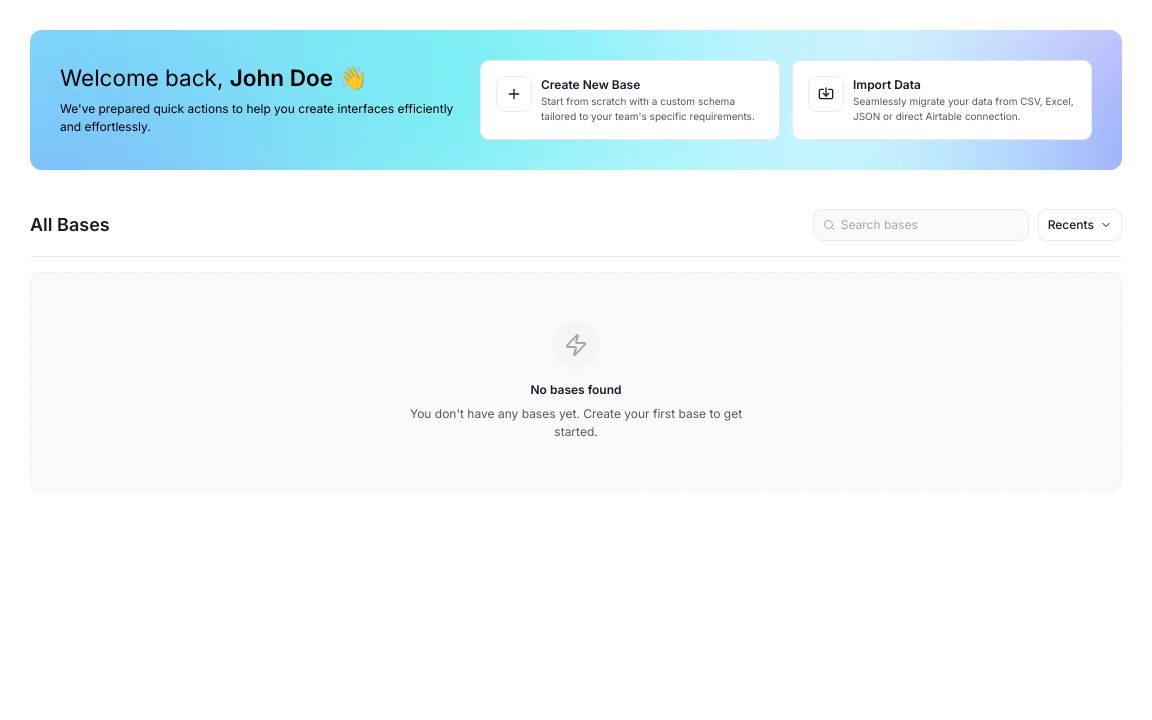
HomePage › Sorting › closes sort dropdown on outside click
The width and height of the screenshot is (1152, 720).
Click the button "Recents": click(1080, 225) left=1038, top=209, right=1122, bottom=241
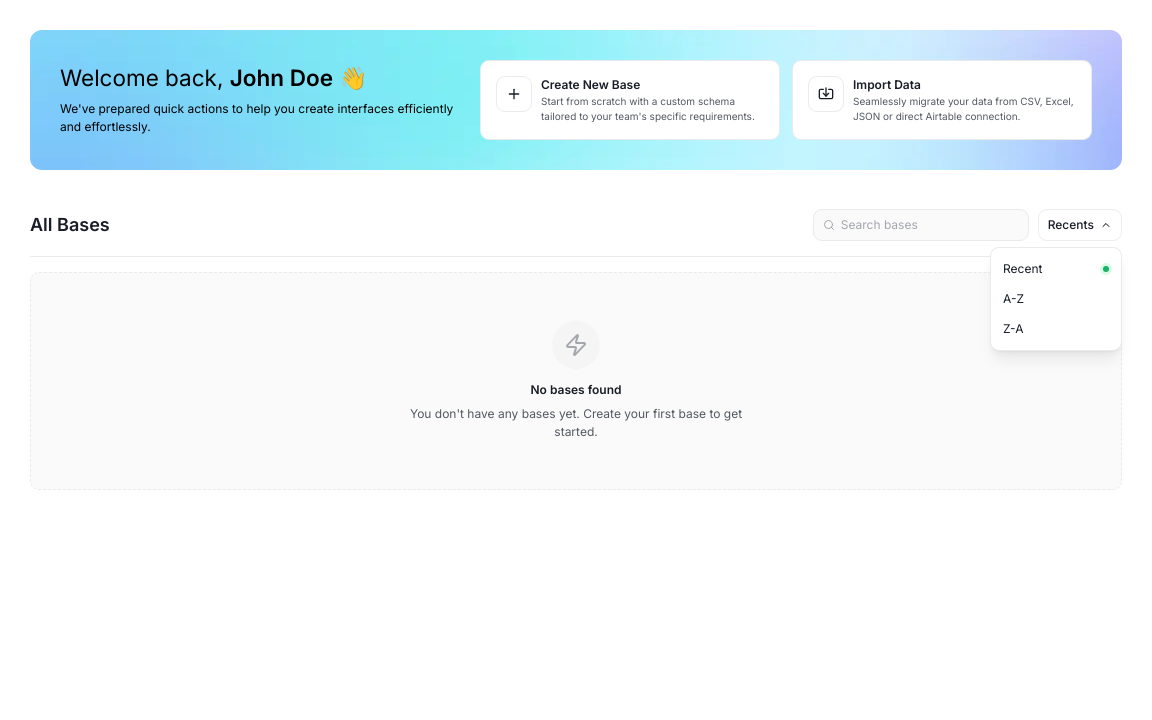
expect the text "A-Z" is shown: met, box left=1003, top=290, right=1024, bottom=308
Press the mouse on the element that starts with "Welcome back,": (576, 260) left=0, top=0, right=1151, bottom=520
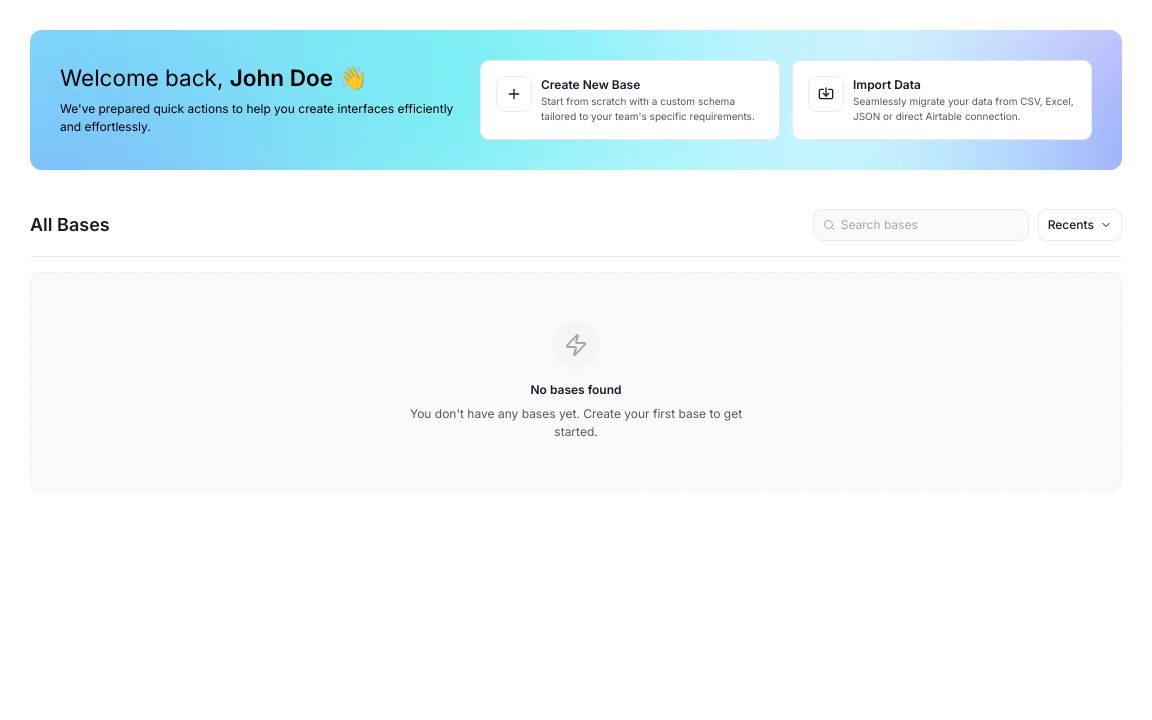
expect the button "A-Z" is gone: met
